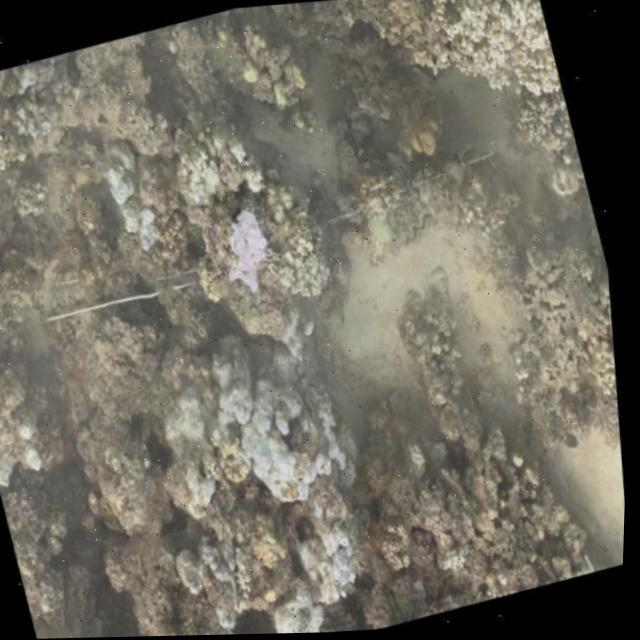Bleached Coral: (244, 515, 424, 635), (208, 346, 341, 504), (262, 191, 363, 324), (223, 199, 295, 313), (177, 127, 269, 211)
